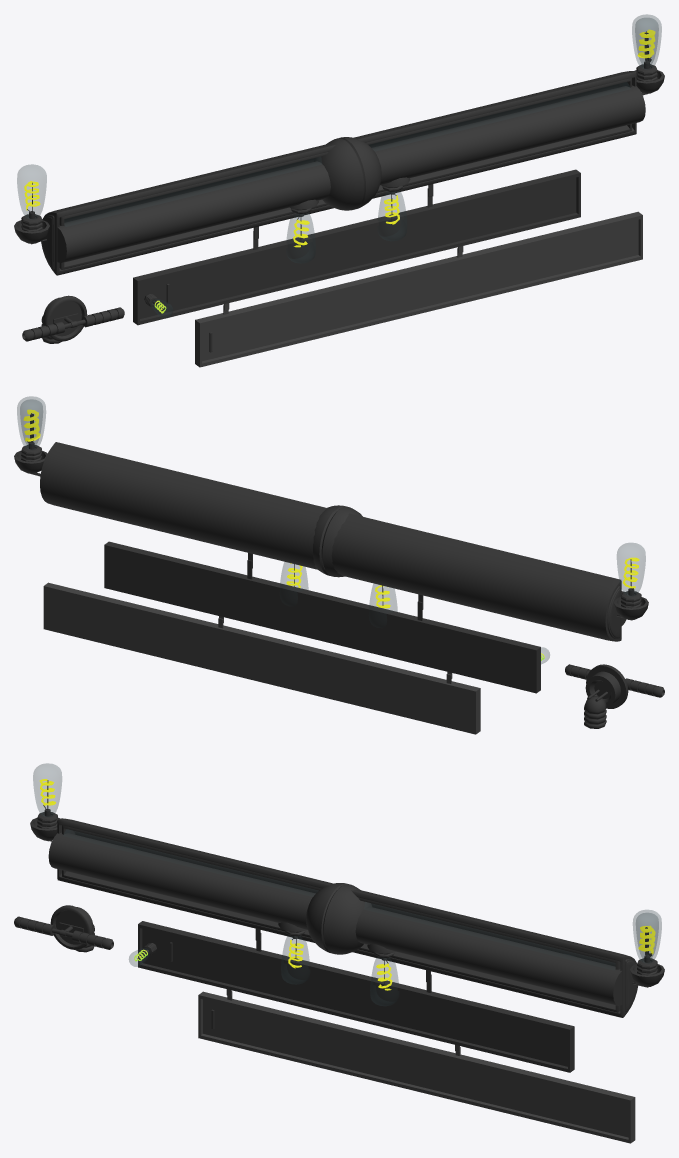
Rendered from QuestManagment.fbx.
The picture shows the model from 3 angles, top to bottom: view 1: azimuth 30°, elevation 25°; view 2: azimuth 150°, elevation 25°; view 3: azimuth 330°, elevation 25°; orthographic projection. The views are drawn at different scales.
Visible parts, largest first — view 1: Cube.003, Cube, Sphere.003, Cover, Base, Glass, Cylinder, Sphere.002, Sphere.001, Sphere, Cylinder.002, Cylinder.003 (+1 smaller); view 2: Cover, Cube.003, Cube, Cylinder, Sphere.001, Sphere, Sphere.002, Cylinder.003, Cylinder.002, Sphere.004; view 3: Cube.003, Cube, Sphere.003, Cover, Base, Glass, Cylinder, Sphere.004, Sphere, Sphere.001, Cylinder.002, Cylinder.003 (+1 smaller).
Boxes of the visible parts, box(x1,y1,x2,y2) form: Cube.003: box(195, 211, 642, 367); Cube: box(133, 169, 580, 325); Sphere.003: box(57, 85, 645, 263); Cover: box(41, 71, 636, 275); Base: box(59, 78, 631, 269); Glass: box(65, 82, 630, 226); Cylinder: box(22, 295, 124, 343); Sphere.002: box(314, 138, 364, 210); Sphere.001: box(14, 164, 49, 244); Sphere: box(632, 14, 664, 95); Cylinder.002: box(378, 177, 410, 240); Cylinder.003: box(286, 199, 318, 263); Cover: box(40, 442, 621, 641); Cube.003: box(43, 582, 480, 734); Cube: box(104, 541, 540, 693); Cylinder: box(565, 664, 664, 728); Sphere.001: box(613, 543, 648, 620); Sphere: box(14, 396, 47, 476); Sphere.002: box(321, 506, 362, 577); Cylinder.003: box(369, 584, 397, 627); Cylinder.002: box(280, 562, 308, 605); Sphere.004: box(313, 505, 345, 575); Cube.003: box(198, 991, 635, 1143); Cube: box(138, 921, 574, 1072); Sphere.003: box(48, 832, 622, 1005); Cover: box(57, 818, 637, 1017); Base: box(62, 825, 620, 1012); Glass: box(63, 829, 614, 969); Cylinder: box(14, 905, 113, 952); Sphere.004: box(323, 884, 372, 954); Sphere: box(630, 910, 664, 987); Sphere.001: box(30, 763, 61, 841); Cylinder.002: box(367, 944, 398, 1005); Cylinder.003: box(278, 922, 309, 984).
Bounding box in the file's own units: 2394 × 827 × 251.
